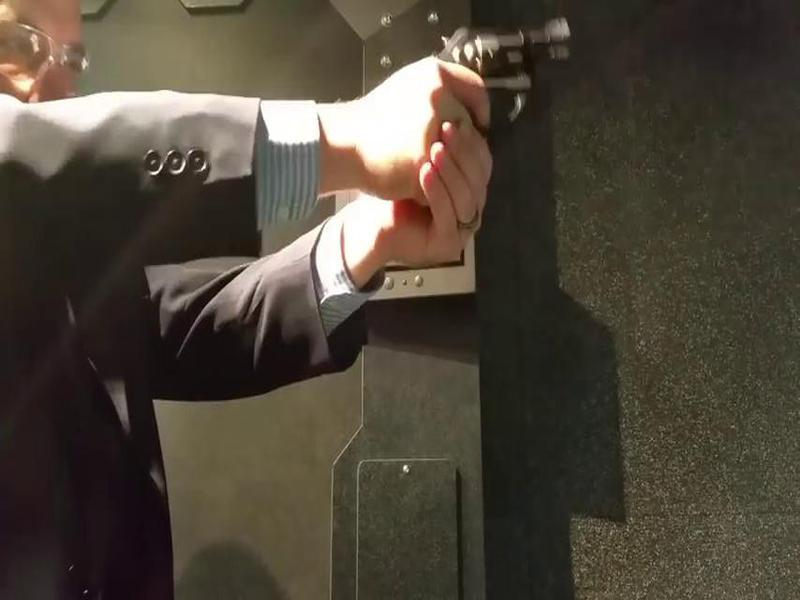Revolver: (392, 3, 579, 209)
